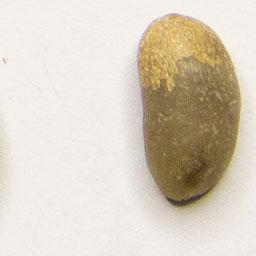longberry: (134, 10, 243, 208)
